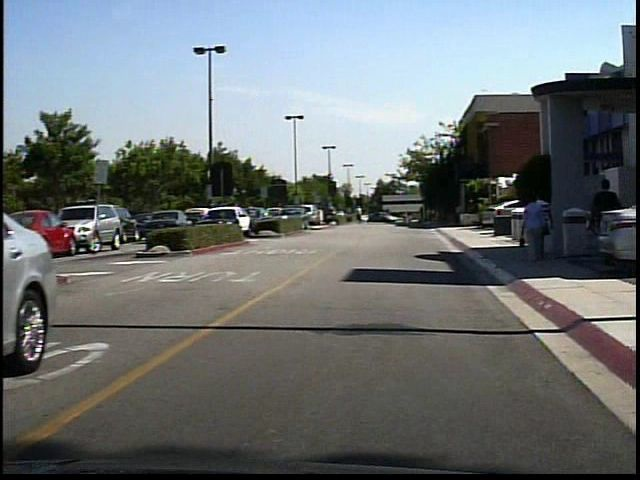person: (592, 171, 629, 265), (528, 190, 557, 266), (542, 189, 562, 261), (360, 202, 370, 226)
